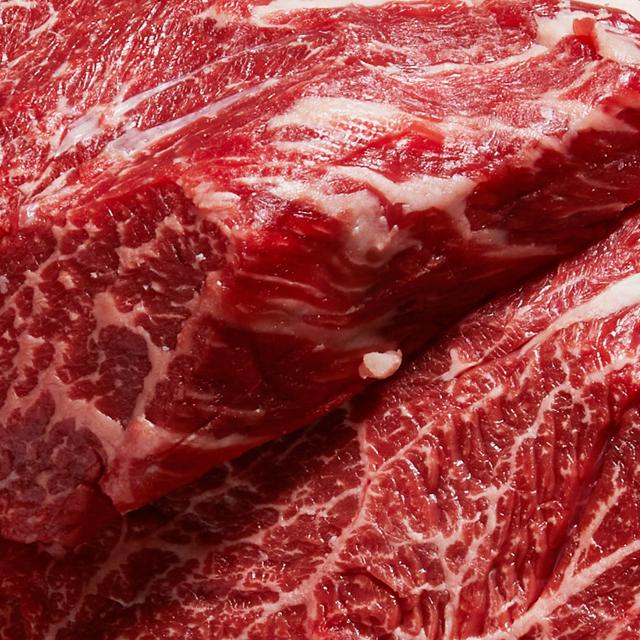beef: (232, 127, 640, 640), (0, 0, 545, 381)
